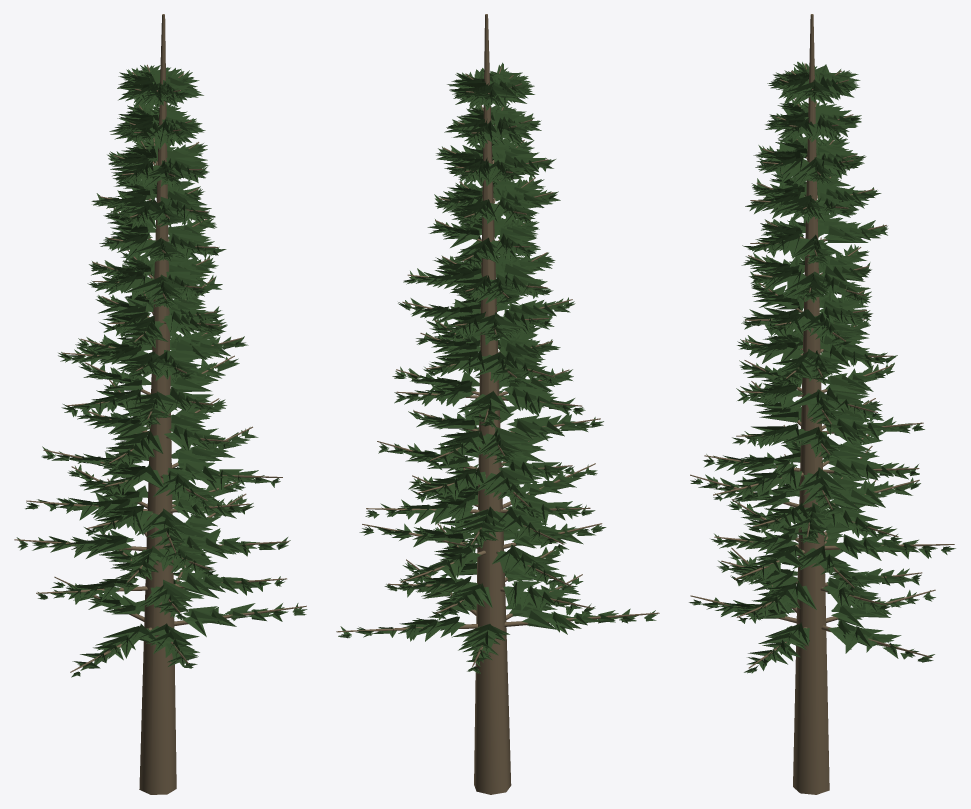
File: cedar1.glb
The picture shows the model from 3 angles, left to right: view 1: azimuth 30°, elevation 25°; view 2: azimuth 150°, elevation 25°; view 3: azimuth 270°, elevation 25°; orthographic projection.
Parts seen in each view (by area): view 1: leaf, bark; view 2: leaf, bark; view 3: leaf, bark.
Part boxes in pixels (box(x1,y1,x2,y2)): leaf: box(16, 65, 307, 677); bark: box(14, 14, 306, 794); leaf: box(338, 62, 657, 673); bark: box(336, 14, 659, 794); leaf: box(689, 61, 955, 673); bark: box(690, 14, 954, 794).
Size of the model in its own units: 6.37 by 19.11 by 5.99.
